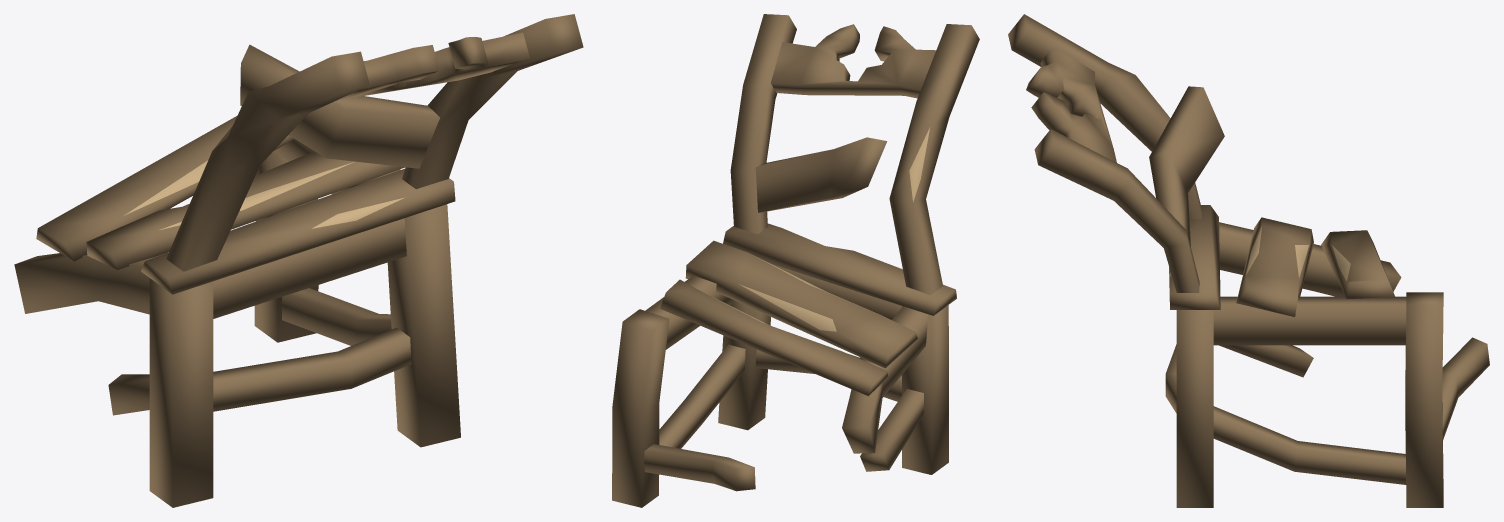
File: rpgpp_av_chair_04b.gltf
3 views of the same model, side by side, from view 1: azimuth 30°, elevation 25°; view 2: azimuth 150°, elevation 25°; view 3: azimuth 270°, elevation 25° (orthographic). The views are drawn at different scales.
Parts seen in each view (by area): view 1: rpgpp_av_chair_04b; view 2: rpgpp_av_chair_04b; view 3: rpgpp_av_chair_04b.
Boxes of the visible parts, x1,y1,x2,y2 form: rpgpp_av_chair_04b: [14, 14, 583, 507]; rpgpp_av_chair_04b: [612, 14, 979, 507]; rpgpp_av_chair_04b: [1008, 14, 1489, 507].
Size of the model in its own units: 0.00566 by 0.00778 by 0.00837.
1 material, 1 textured.
